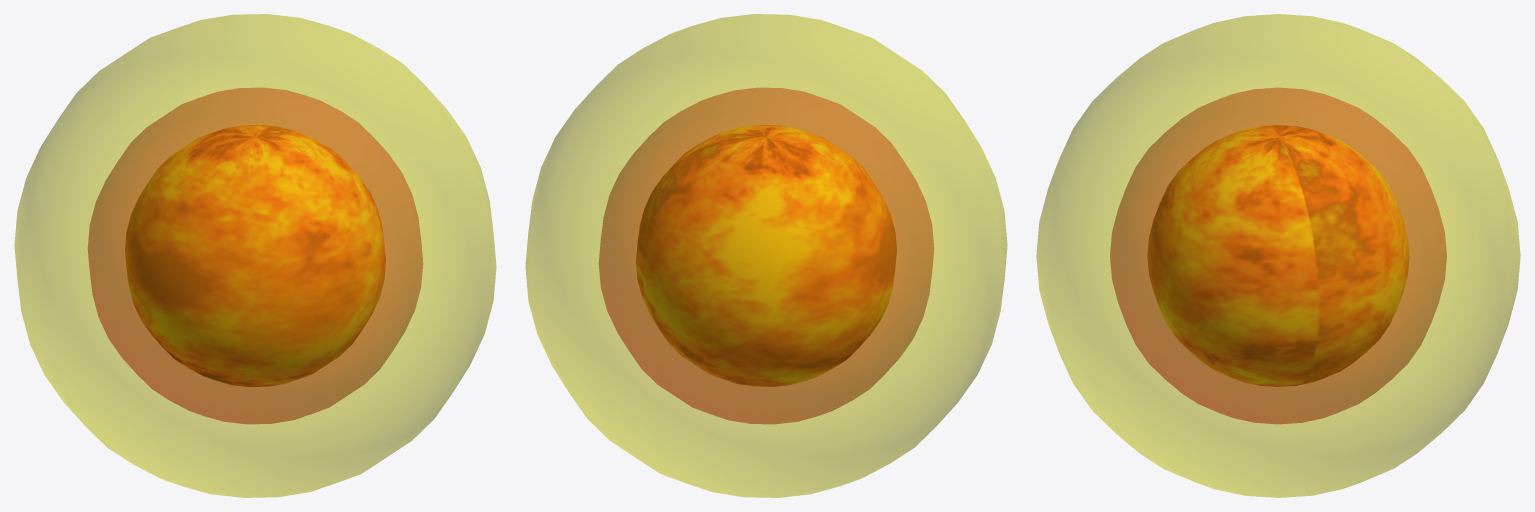
The model's file is fireball.fbx.
3 renders of one model, left to right at view 1: azimuth 30°, elevation 25°; view 2: azimuth 150°, elevation 25°; view 3: azimuth 270°, elevation 25°, orthographic.
Parts seen in each view (by area): view 1: pSphere4; view 2: pSphere4; view 3: pSphere4.
Boxes of the visible parts, bbox=[...] form: pSphere4: bbox=[14, 14, 496, 497]; pSphere4: bbox=[525, 14, 1007, 497]; pSphere4: bbox=[1036, 14, 1520, 497].
Size of the model in its own units: 3.69 by 3.69 by 3.69.
